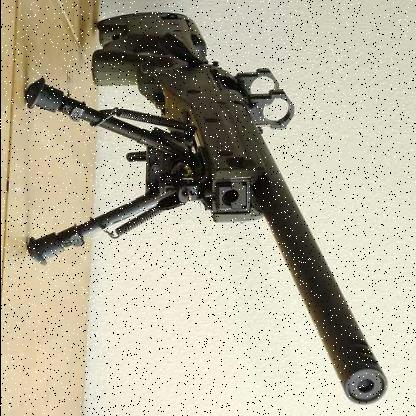rifle: (63, 10, 400, 409)
